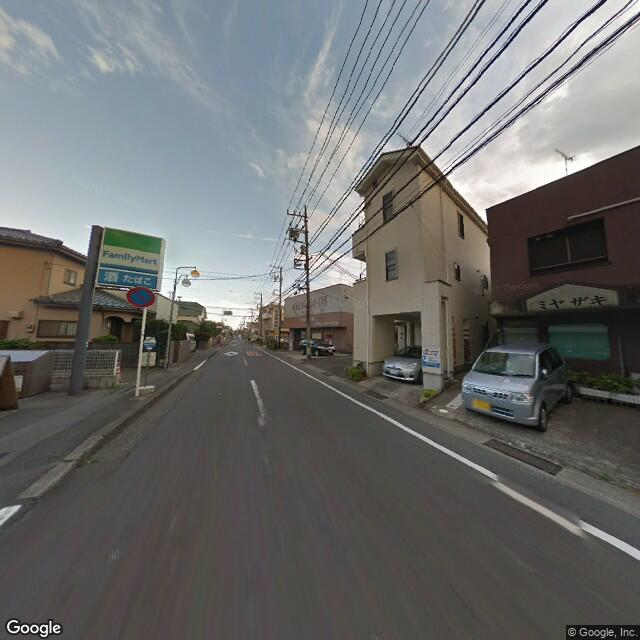family_mart: (99, 221, 161, 280)
